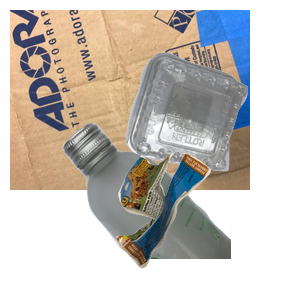cardboard: (10, 10, 250, 190)
glass: (60, 120, 300, 300)
plastic: (123, 50, 300, 214)
trash: (114, 151, 300, 300)
